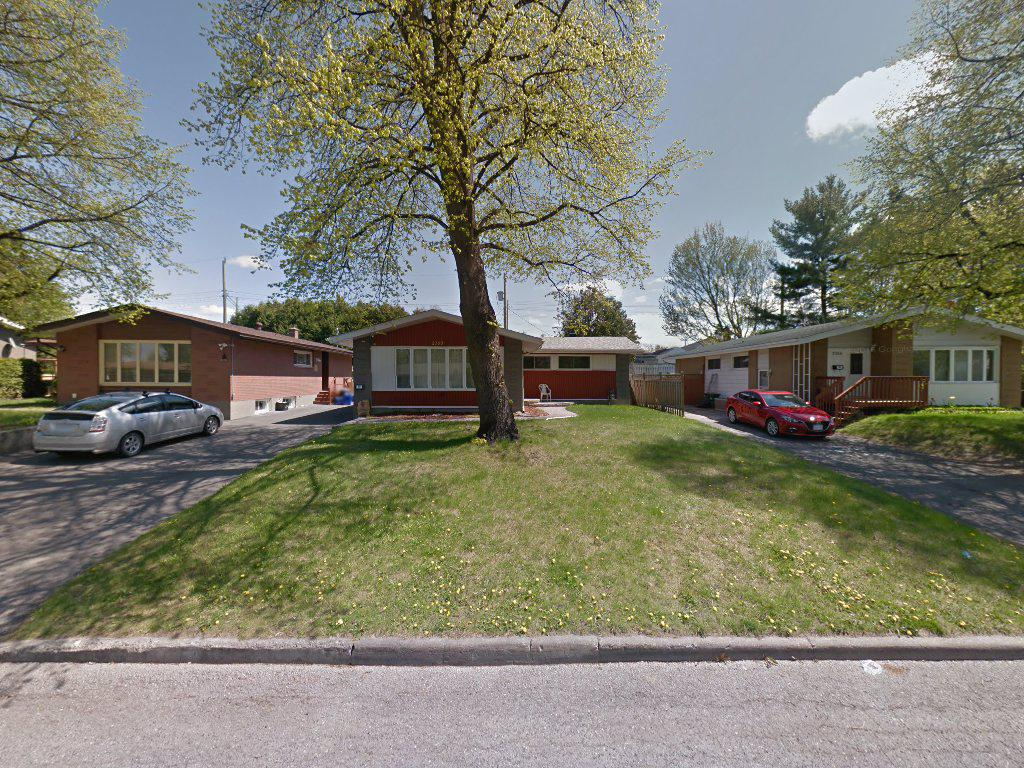trunk: (451, 199, 527, 458)
